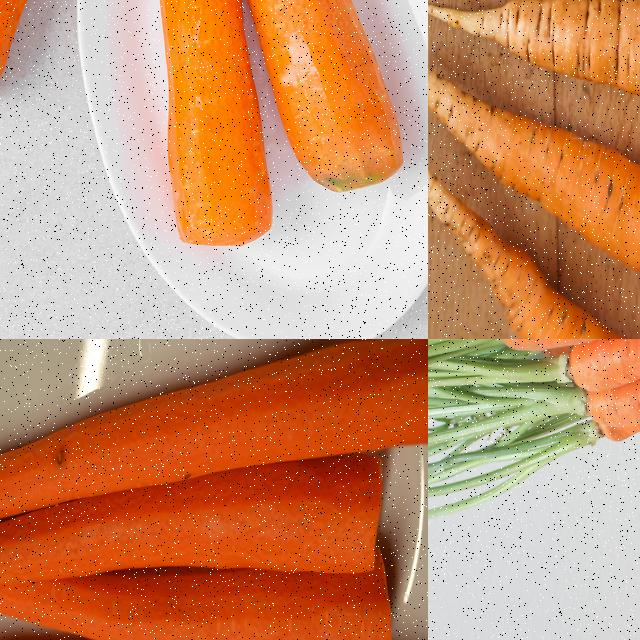carrot: (0, 339, 427, 536), (0, 452, 386, 608), (428, 53, 639, 338), (428, 125, 639, 338), (233, 0, 410, 199), (152, 0, 277, 250), (428, 0, 639, 130), (0, 591, 397, 639), (497, 339, 639, 448)
